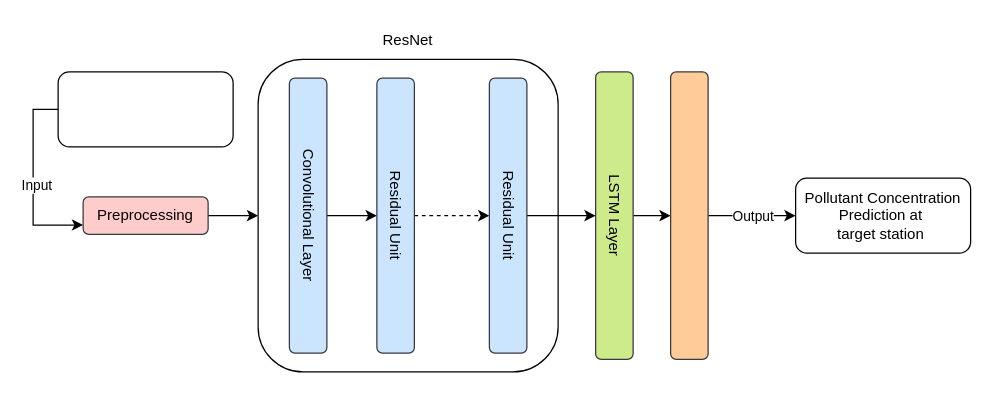
The diagram is 993 pixels wide and 394 high, and some of its shapes have lost their labels. Here are the shapes that lost their labels. From the top down, the centre of each, then its label:
At point (145, 109): "Pollutant Concentration Meteorological Data".
At point (688, 215): "FC Layer".
